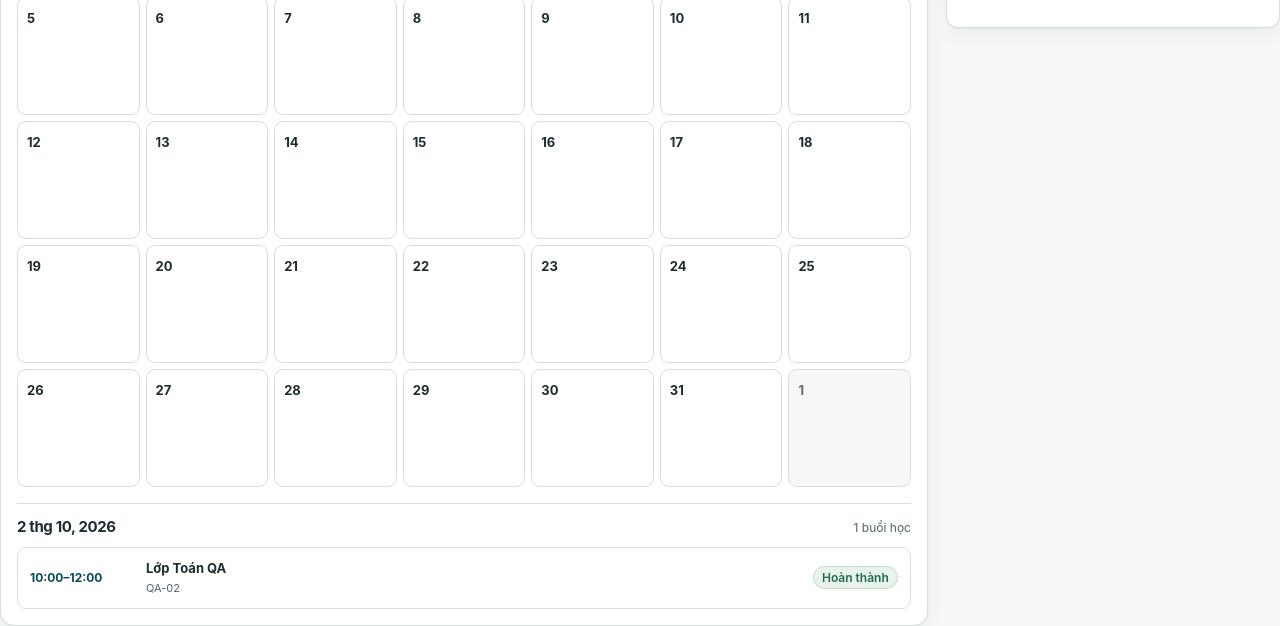
Staff SessionsPage › keeps completed session results read-only
This screenshot has width=1280, height=626.
(page scrolled)
Click the button with class "session-month__session-card": [66, 578] box x1=17 y1=547 x2=911 y2=609
(page scrolled)
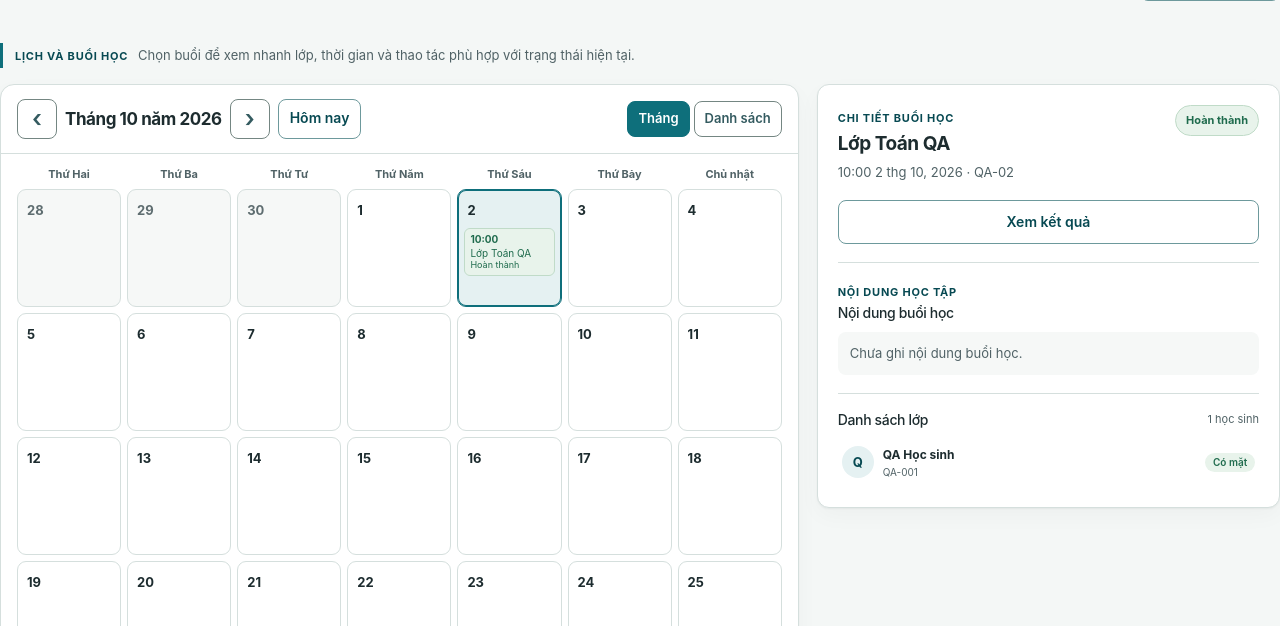
Click the button "Xem kết quả": [1048, 222] box x1=838 y1=200 x2=1259 y2=244
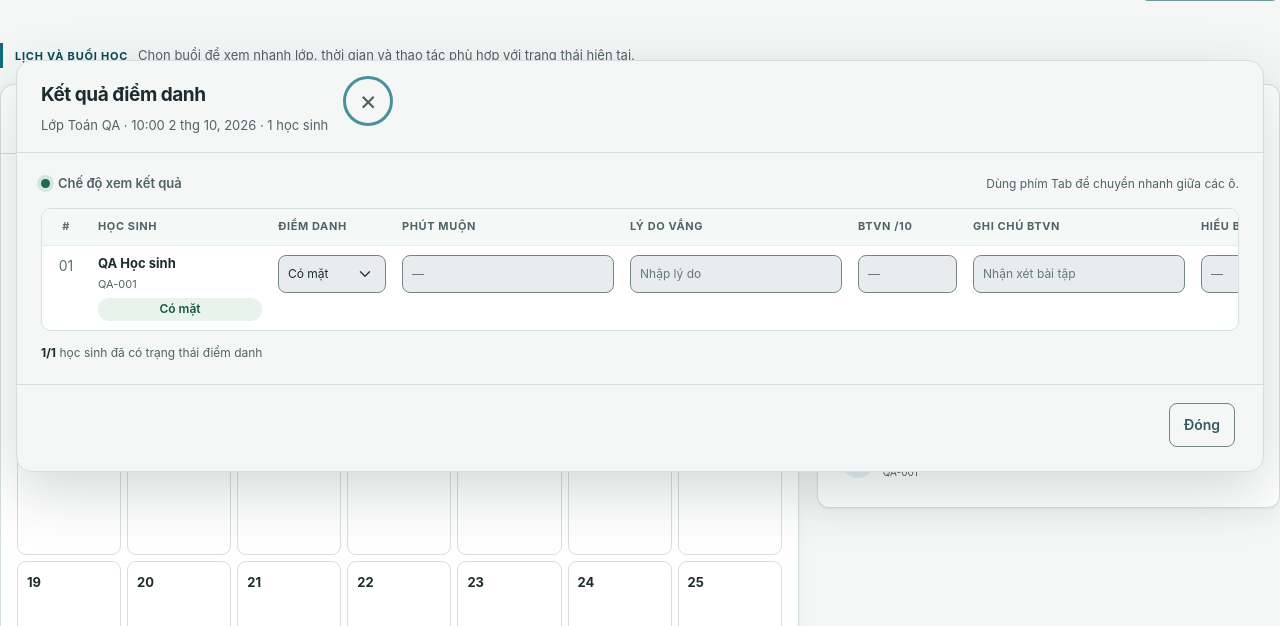
Result: the dialog with class "app-modal" shows "Chế độ xem kết quả" at x1=58 y1=175 x2=182 y2=191
Result: the dropdown named "Trạng thái điểm danh của QA Học sinh" is disabled at x1=278 y1=255 x2=386 y2=293
